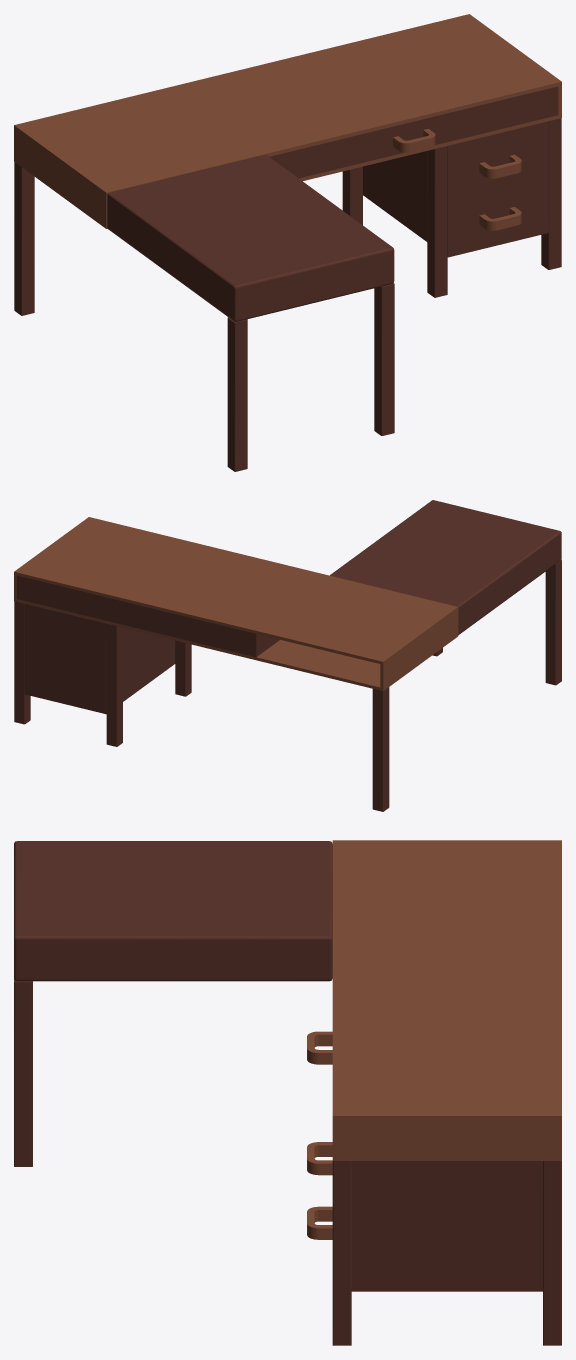
Rendered from Office Desks.glb.
3 renders of one model, top to bottom at view 1: azimuth 30°, elevation 25°; view 2: azimuth 150°, elevation 25°; view 3: azimuth 270°, elevation 25°, orthographic. The views are drawn at different scales.
Visible parts, largest first — view 1: Cube (×10), Spline 2D (×5); view 2: Spline 2D (×2), Cube (×9); view 3: Spline 2D (×5), Cube (×4).
Part boxes in pixels (x1=…): Cube (×10): x1=14, y1=86, x2=561, y2=471; Spline 2D (×5): x1=14, y1=14, x2=561, y2=257; Spline 2D (×2): x1=14, y1=517, x2=458, y2=714; Cube (×9): x1=14, y1=500, x2=561, y2=811; Spline 2D (×5): x1=307, y1=840, x2=561, y2=1291; Cube (×4): x1=14, y1=841, x2=561, y2=1345.
Bounding box in the file's own units: 2.56 × 0.995 × 2.15.
